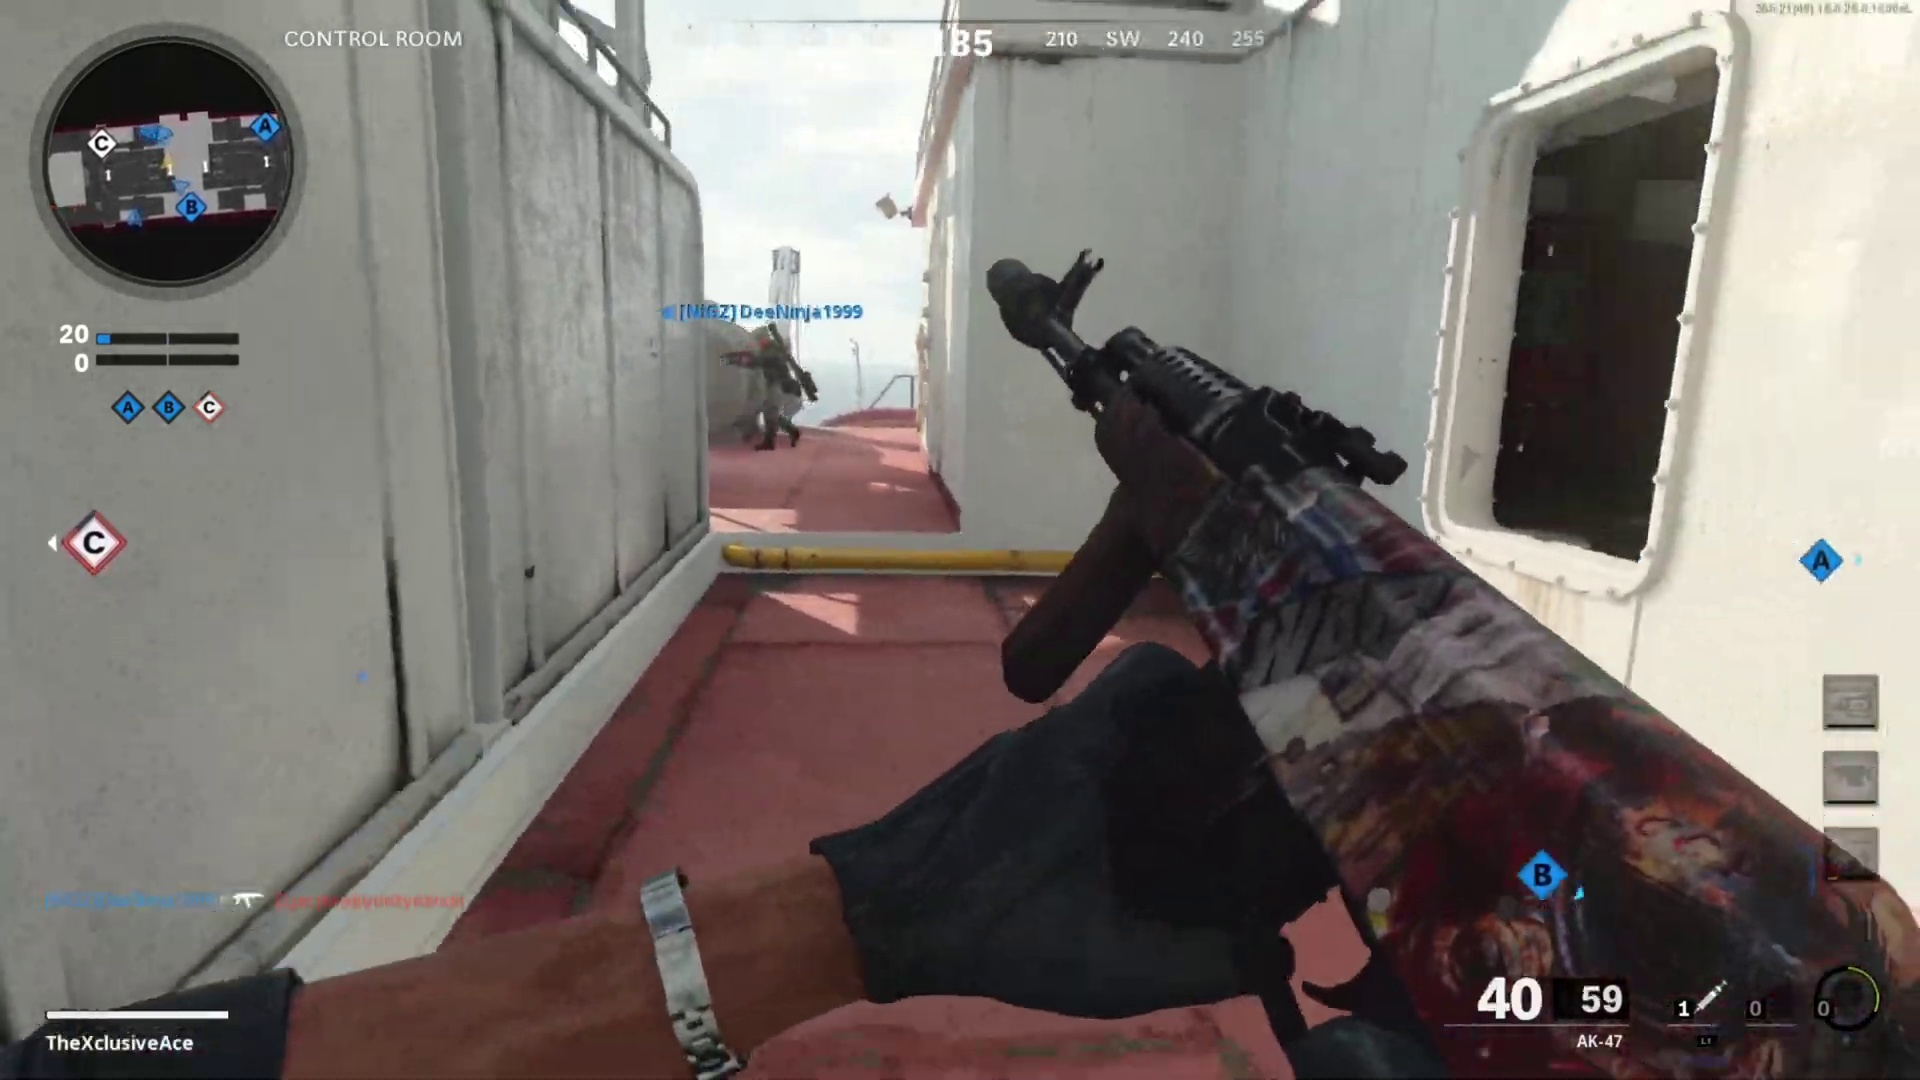head: (746, 325, 774, 353)
person: (738, 323, 807, 449)
